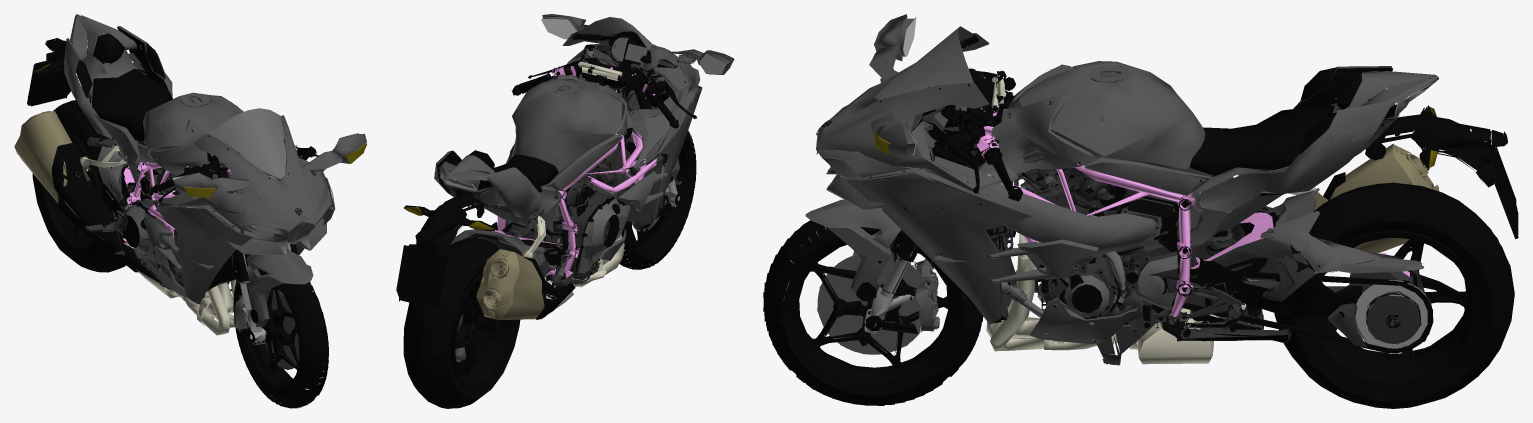
The picture shows the model from 3 angles, left to right: view 1: azimuth 30°, elevation 25°; view 2: azimuth 150°, elevation 25°; view 3: azimuth 270°, elevation 25°; orthographic projection. The views are drawn at different scales.
Parts seen in each view (by area): view 1: body, wheelF, wheelR; view 2: body, wheelR, wheelF; view 3: body, wheelR, wheelF.
Part boxes in pixels (x1=…): body: x1=14, y1=14, x2=367, y2=345; wheelF: x1=233, y1=264, x2=328, y2=408; wheelR: x1=32, y1=100, x2=125, y2=272; body: x1=396, y1=14, x2=734, y2=362; wheelR: x1=403, y1=238, x2=520, y2=408; wheelF: x1=619, y1=130, x2=696, y2=270; body: x1=805, y1=14, x2=1518, y2=365; wheelR: x1=1274, y1=182, x2=1514, y2=408; wheelF: x1=763, y1=220, x2=983, y2=405.
Size of the model in its own units: 1.04 by 1.41 by 2.58.
